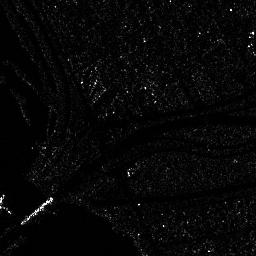ship: (19, 195, 54, 226)
